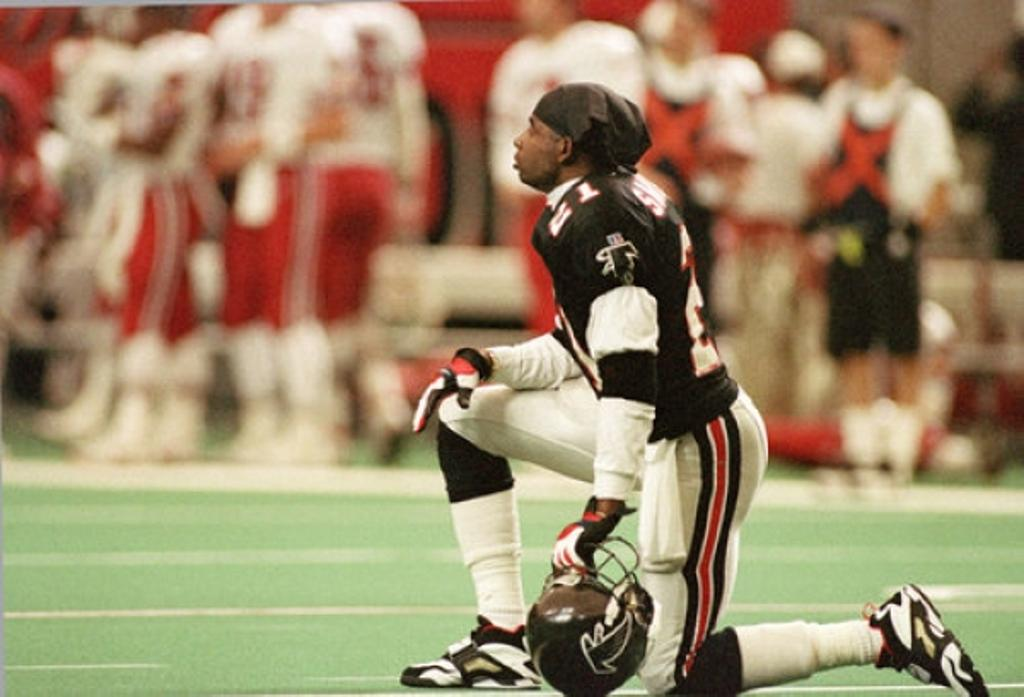face: (512, 106, 564, 190)
